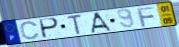9: (117, 8, 137, 30)
A: (90, 11, 113, 34)
C: (19, 20, 41, 40)
F: (136, 6, 157, 28)
P: (39, 17, 60, 40)
T: (66, 13, 84, 36)
